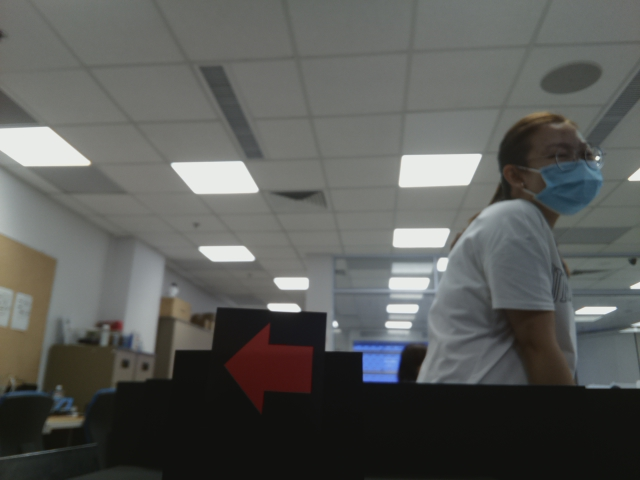left: (221, 324, 318, 412)
